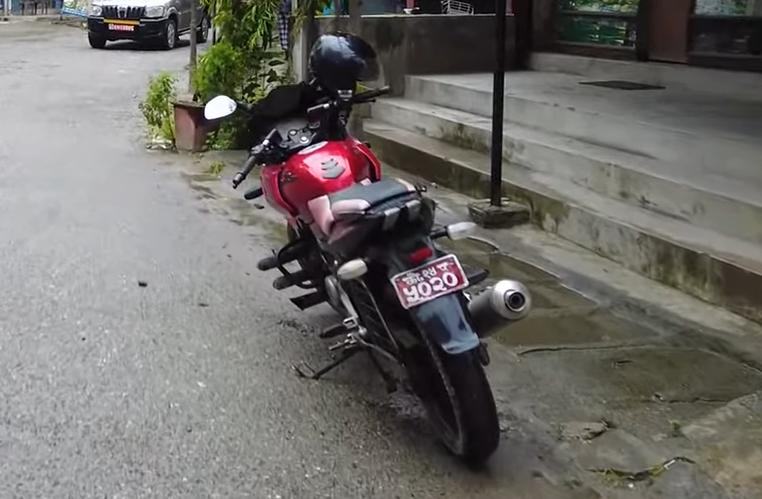bike: (201, 77, 531, 473)
